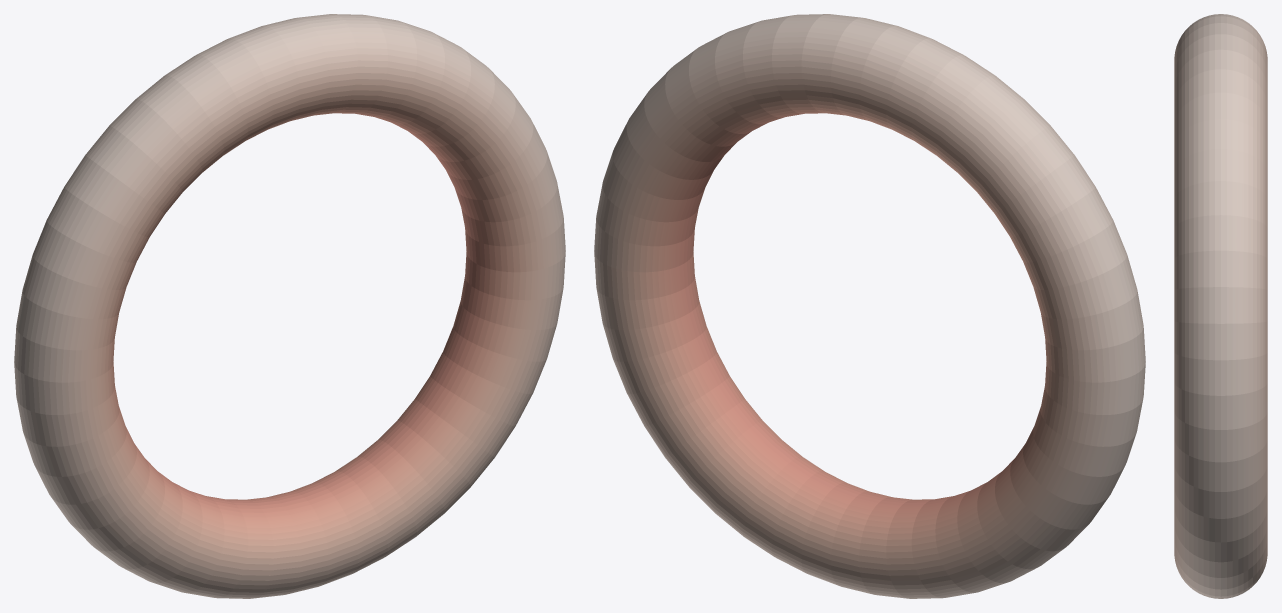
3 views of the same model, side by side, from view 1: azimuth 30°, elevation 25°; view 2: azimuth 150°, elevation 25°; view 3: azimuth 270°, elevation 25° (orthographic). The views are drawn at different scales.
Visible parts, largest first — view 1: world; view 2: world; view 3: world.
Boxes of the visible parts, x1,y1,x2,y2 form: world: (14,14,565,598); world: (594,14,1145,598); world: (1174,14,1267,598).
Bounding box in the file's own units: 32.53 × 32.47 × 5.19.
